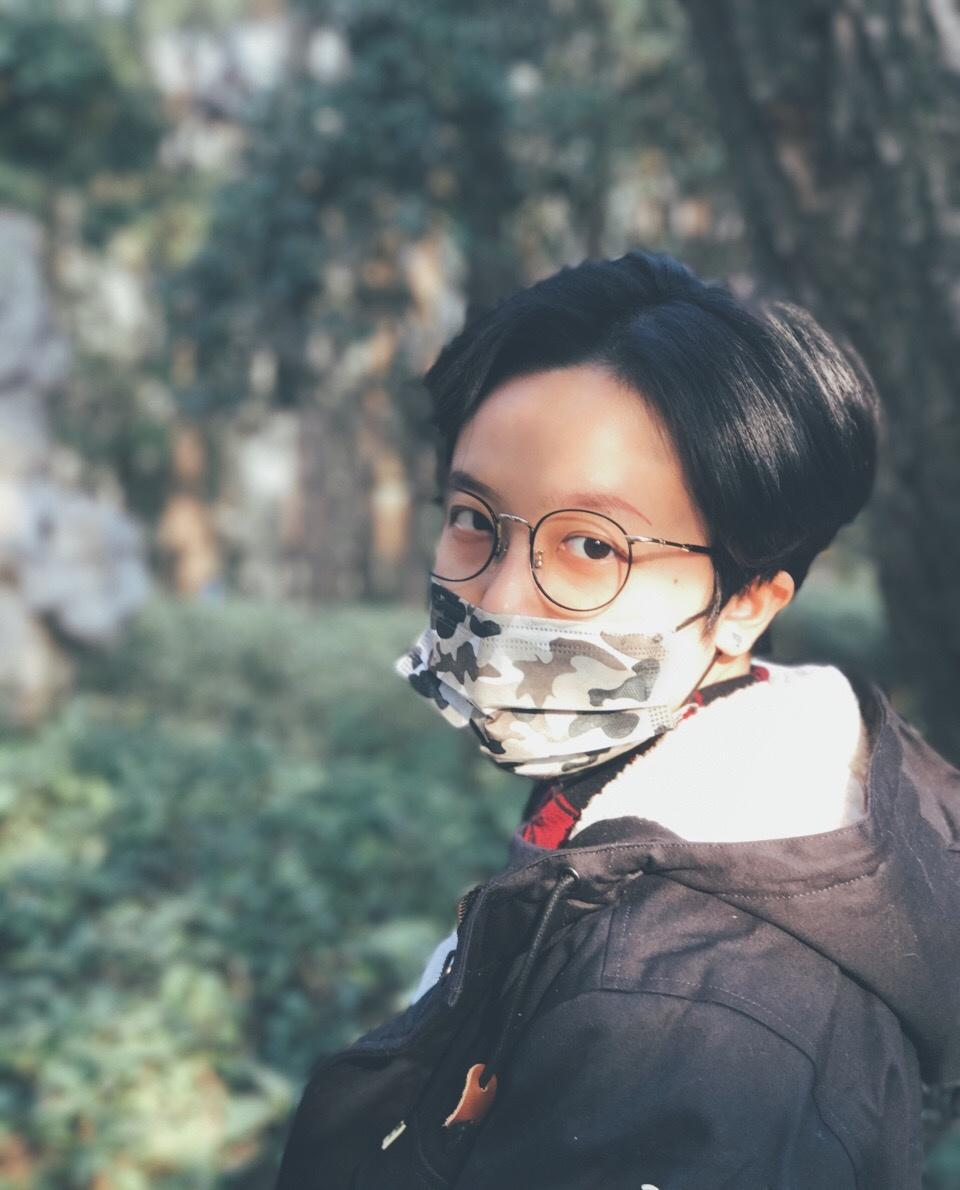WRONG: (411, 450, 745, 784)
